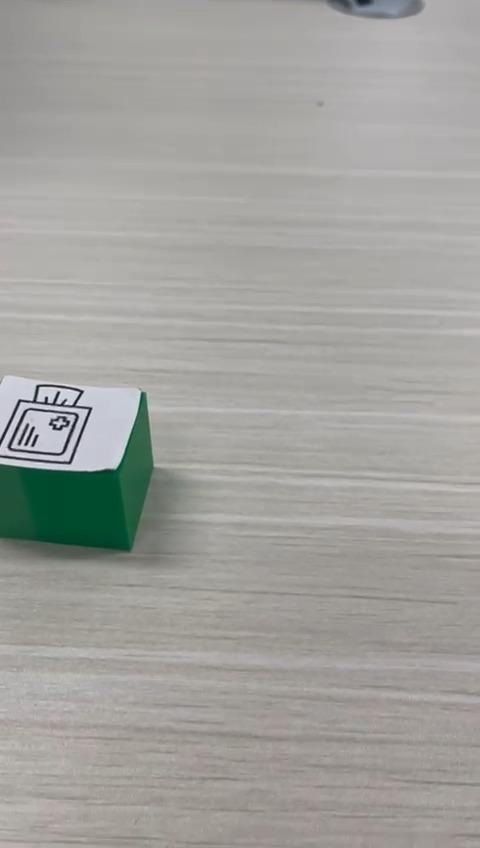Gauze: (0, 373, 154, 552)
